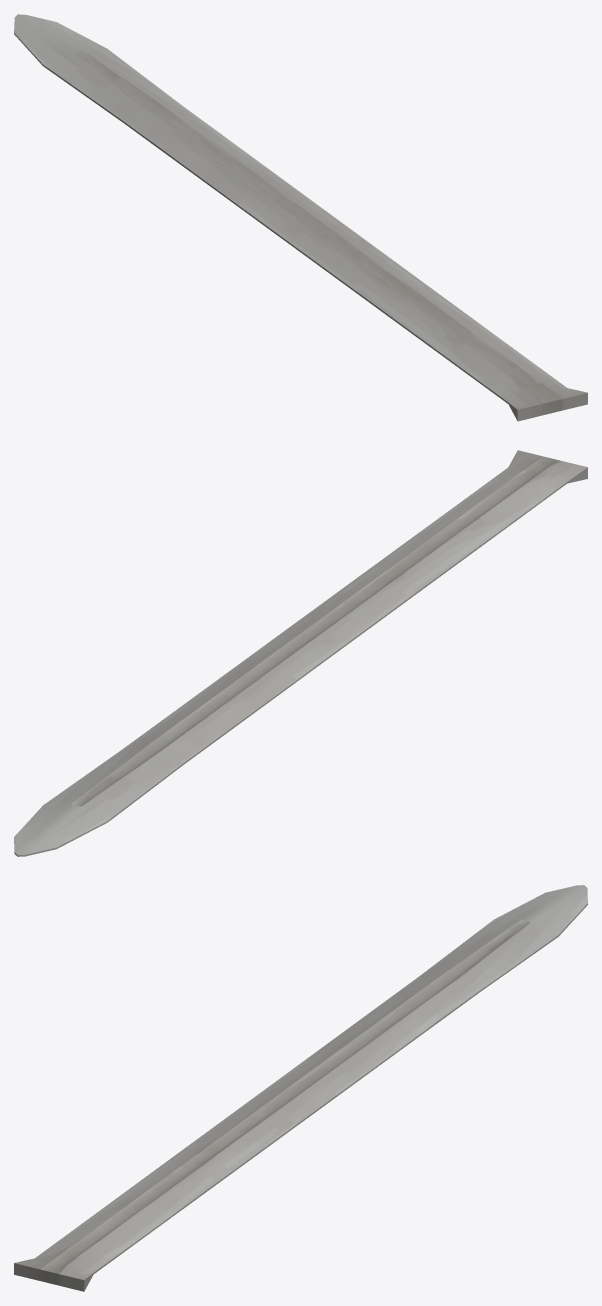
The model's file is blade4.FBX.
The picture shows the model from 3 angles, top to bottom: view 1: azimuth 30°, elevation 25°; view 2: azimuth 150°, elevation 25°; view 3: azimuth 330°, elevation 25°; orthographic projection.
Parts seen in each view (by area): view 1: blade004; view 2: blade004; view 3: blade004.
Boxes of the visible parts, bbox=[...] form: blade004: bbox=[14, 14, 587, 421]; blade004: bbox=[14, 450, 587, 856]; blade004: bbox=[14, 885, 587, 1291].
Size of the model in its own units: 0.1833 by 2.42 by 0.0378.
